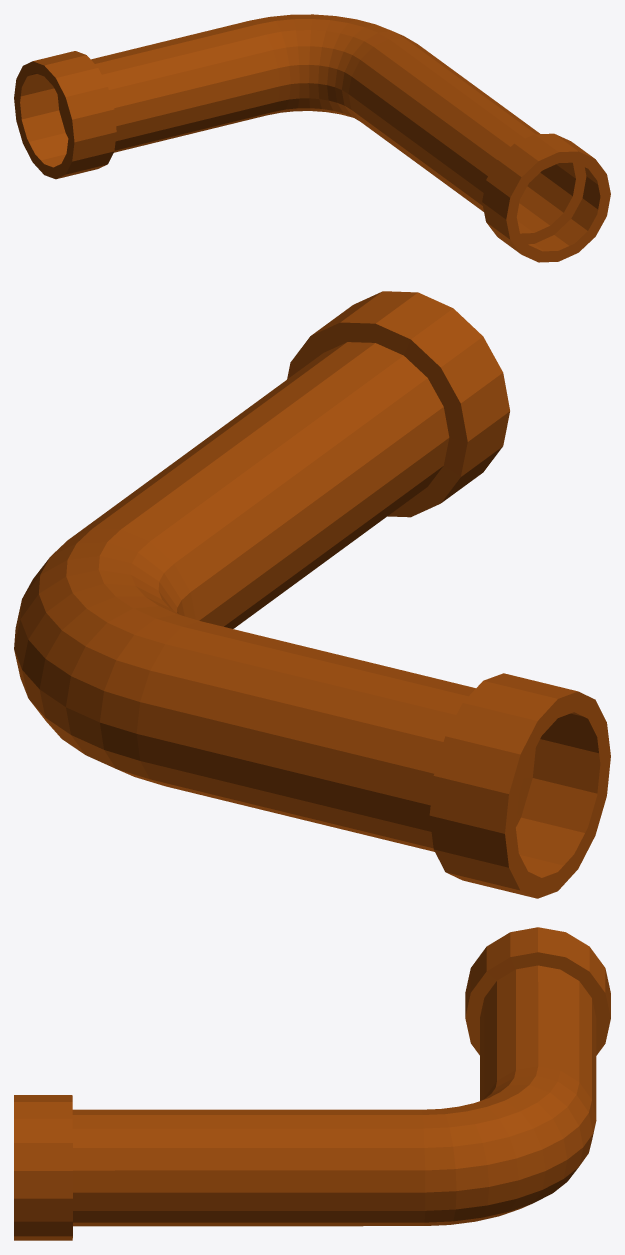
The model's file is Pipe2.fbx.
3 views of the same model, one above another, from view 1: azimuth 30°, elevation 25°; view 2: azimuth 150°, elevation 25°; view 3: azimuth 270°, elevation 25° (orthographic). The views are drawn at different scales.
Parts seen in each view (by area): view 1: Plane; view 2: Plane; view 3: Plane.
Boxes of the visible parts, left/top/right/bottom form: Plane: left=14, top=14, right=610, bottom=262; Plane: left=14, top=291, right=610, bottom=898; Plane: left=14, top=927, right=610, bottom=1240.
Size of the model in its own units: 417 by 125 by 512.
